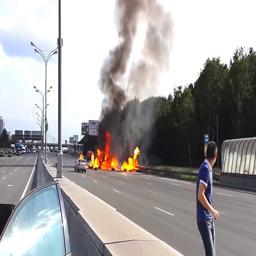fire: (89, 132, 141, 172)
